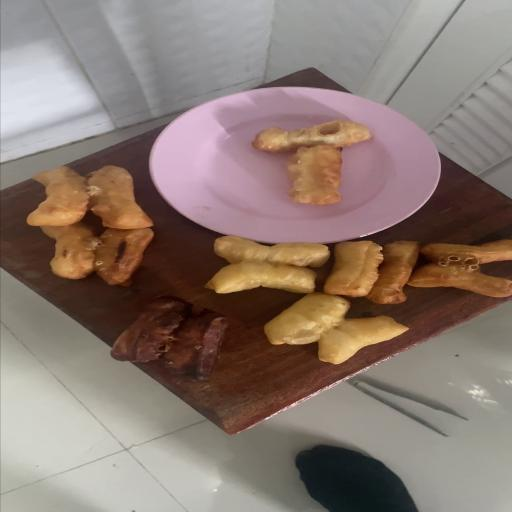street_burnt_defect: (34, 226, 152, 284)
street_golden_good: (206, 236, 328, 296)
